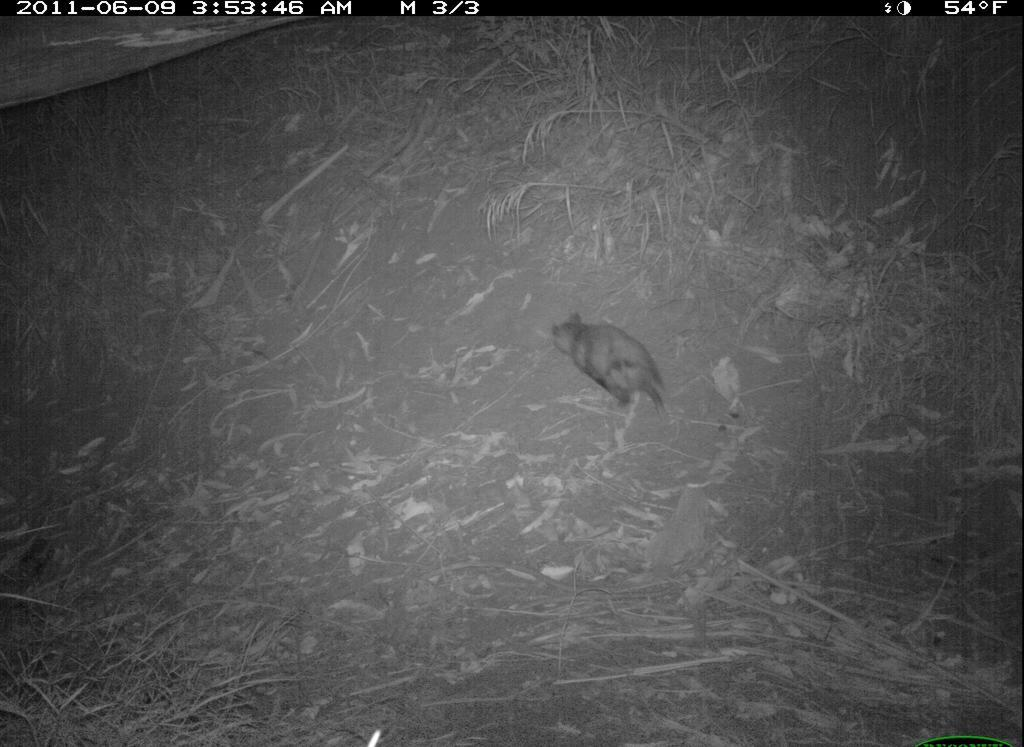opossum: (543, 306, 674, 427)
